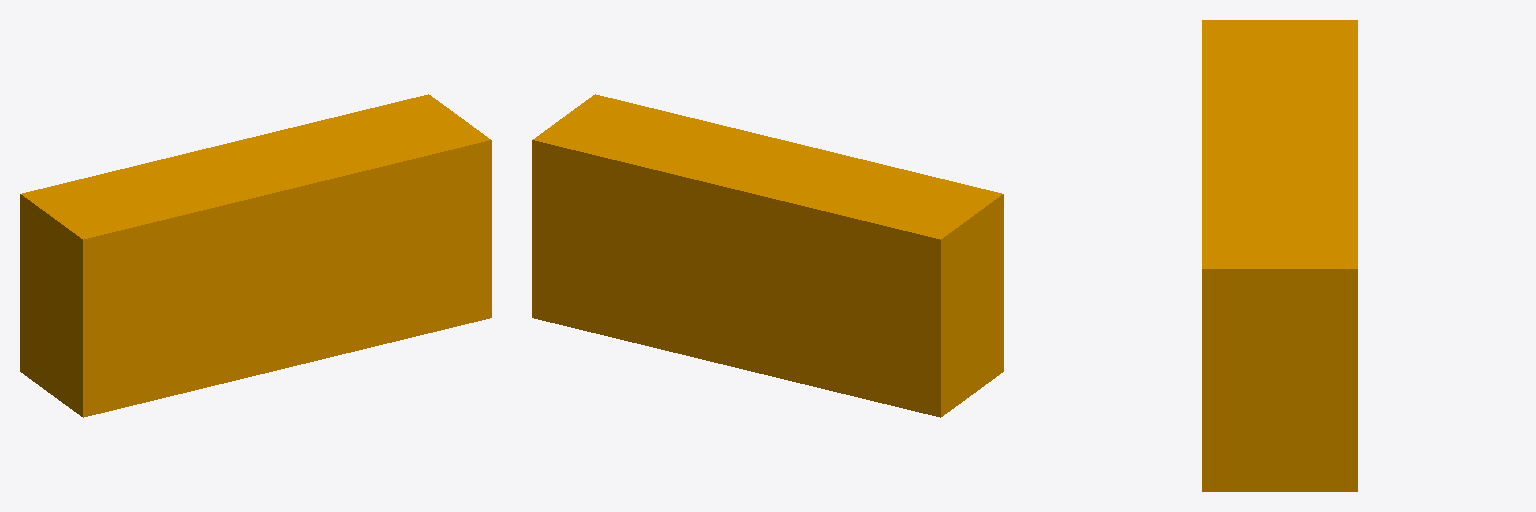
URDF robot description (expo_eraser):

<!-- * * * Link Definitions * * * -->
<robot name="expo_eraser">
<link name="expo_eraser">
    <inertial>
        <origin xyz="0 0 0" rpy="0 0 0"/>
        <mass value="0.018" />
        <inertia ixx="0.00002835" ixy="0.0" ixz="0.0" iyy="0.00002835" iyz="0.0" izz="0.0000324"/>
    </inertial>
    <collision>
        <origin xyz="0 0 0" rpy="0 0 0"/>
        <geometry>
            <mesh filename="package://expo_eraser/models/eraser.dae"/>
        </geometry>
    </collision>
    <visual>
        <origin rpy="0.0 0 0" xyz="0 0 0"/>
        <geometry>
            <mesh filename="package://expo_eraser/models/eraser.dae"/>
        </geometry>
    </visual>
</link>
</robot>



--- What the picture shows (computed from the rendered views, not written in the file) ---
The picture shows the robot from 3 angles, left to right: view 1: azimuth 30°, elevation 25°; view 2: azimuth 150°, elevation 25°; view 3: azimuth 270°, elevation 25°; orthographic projection.
Model expo_eraser with 1 links and 0 joints (none), rooted at expo_eraser, posed every joint at zero.
Links seen in each view (by area): view 1: expo_eraser; view 2: expo_eraser; view 3: expo_eraser.
Boxes of the visible links, x1,y1,x2,y2 form: expo_eraser: [20, 94, 491, 417]; expo_eraser: [532, 94, 1003, 417]; expo_eraser: [1202, 20, 1357, 491].
Bounding box of the posed robot: 132 × 35 × 55 m (x, y, z).
1 mesh visuals loaded from 1 distinct referenced files (1 Collada DAE).